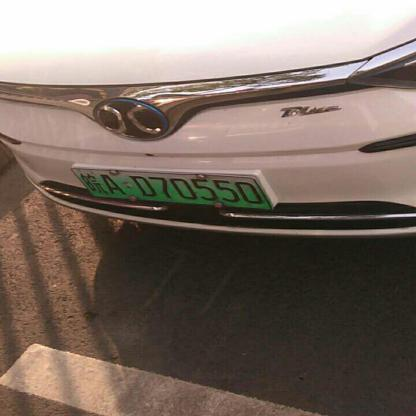lp: (68, 168, 273, 210)
